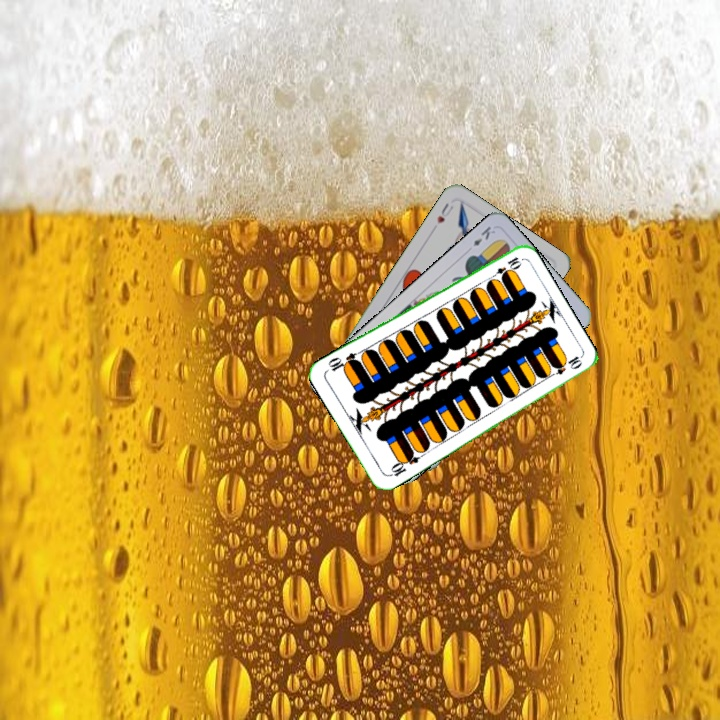E10: (385, 448, 422, 479), (486, 253, 523, 282)
EK: (469, 222, 498, 249)
HU: (433, 199, 456, 226)
